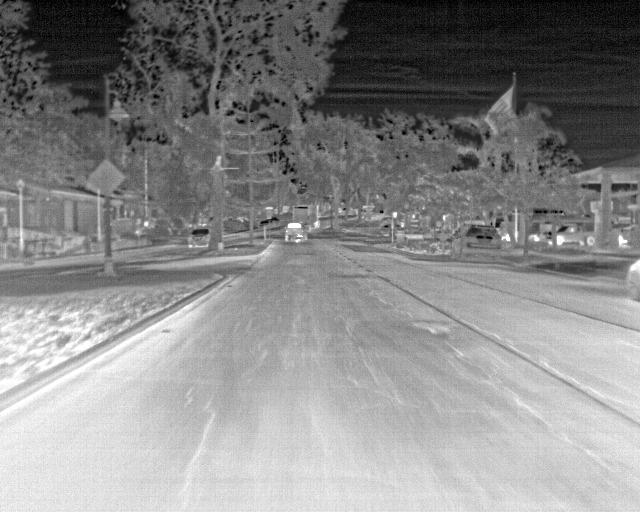car: (445, 223, 499, 258), (396, 224, 433, 250), (557, 225, 592, 245), (624, 258, 639, 300), (427, 225, 450, 252), (285, 220, 306, 241), (619, 225, 638, 247), (188, 228, 208, 247), (269, 214, 283, 226), (258, 219, 271, 231)
